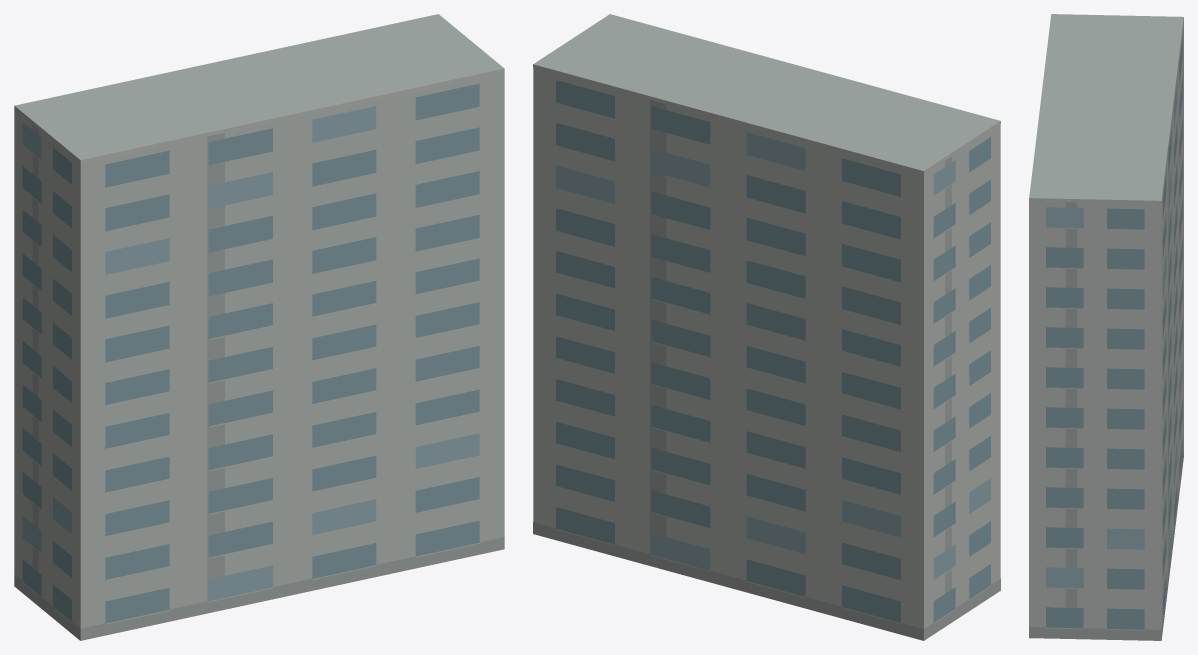
File: residential-7eca7306-92e8-4790-bb7e-a824a82c57c2.glb
The picture shows the model from 3 angles, left to right: view 1: azimuth 30°, elevation 25°; view 2: azimuth 150°, elevation 25°; view 3: azimuth 270°, elevation 25°; orthographic projection. The views are drawn at different scales.
Visible parts, largest first — view 1: residential-7eca7306-92e8-4790-bb7e-a824a82c57c2.tmp; view 2: residential-7eca7306-92e8-4790-bb7e-a824a82c57c2.tmp; view 3: residential-7eca7306-92e8-4790-bb7e-a824a82c57c2.tmp.
Part boxes in pixels (left/top/right/bottom): residential-7eca7306-92e8-4790-bb7e-a824a82c57c2.tmp: left=14, top=14, right=504, bottom=640; residential-7eca7306-92e8-4790-bb7e-a824a82c57c2.tmp: left=533, top=14, right=1000, bottom=640; residential-7eca7306-92e8-4790-bb7e-a824a82c57c2.tmp: left=1029, top=14, right=1183, bottom=640.
Bounding box in the file's own units: 29.15 × 32 × 10.21.
